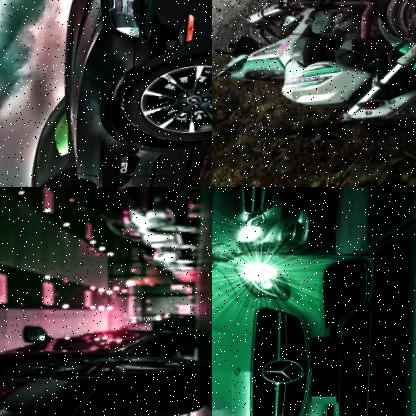bike: (212, 0, 416, 151)
car: (28, 0, 212, 187), (212, 240, 395, 416), (0, 340, 205, 416), (212, 187, 341, 259), (95, 192, 202, 259)
